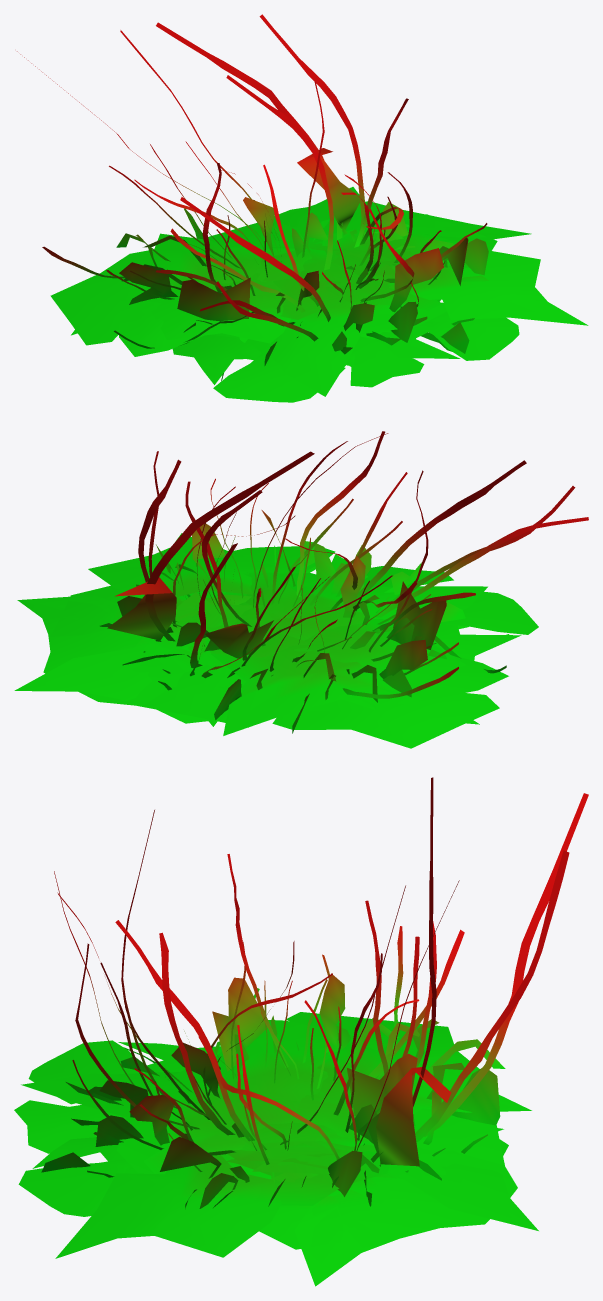
File: Wild Grass_LOD0_Var12_vdilbaiia.fbx
3 renders of one model, top to bottom at view 1: azimuth 30°, elevation 25°; view 2: azimuth 150°, elevation 25°; view 3: azimuth 270°, elevation 25°, orthographic. The views are drawn at different scales.
Visible parts, largest first — view 1: _3eaz_Var12_LOD0; view 2: _3eaz_Var12_LOD0; view 3: _3eaz_Var12_LOD0.
Part boxes in pixels (<box>): _3eaz_Var12_LOD0: <box>17,14,588,402</box>; _3eaz_Var12_LOD0: <box>14,431,588,748</box>; _3eaz_Var12_LOD0: <box>14,777,588,1286</box>.
Bounding box in the file's own units: 88.82 × 48.91 × 79.27.
